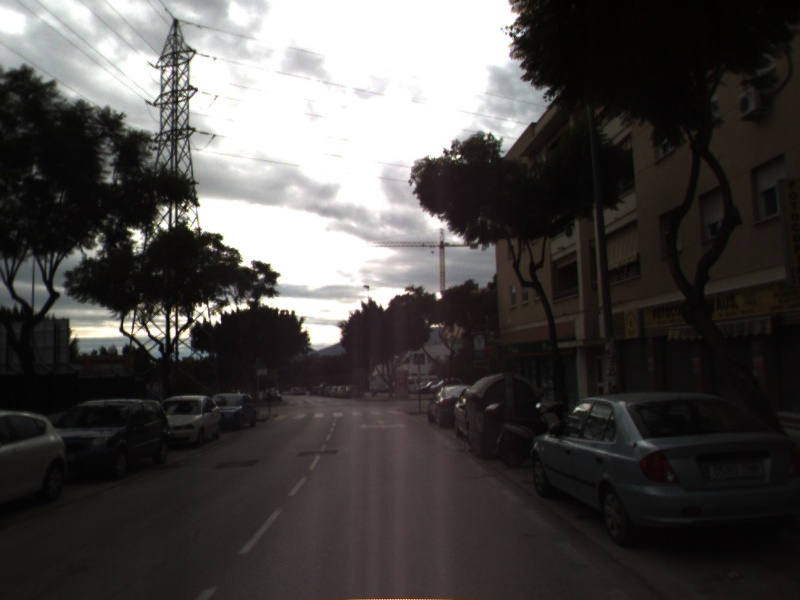STRAIGHT_LEFT_RIGHT: (356, 418, 408, 432)
